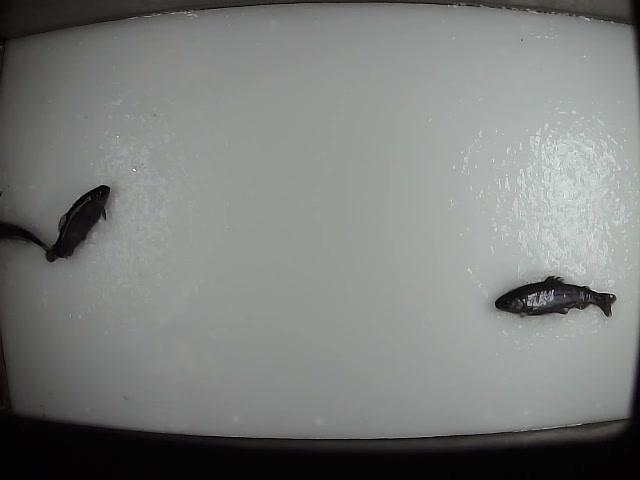fish: (490, 271, 616, 319), (44, 180, 111, 264)
